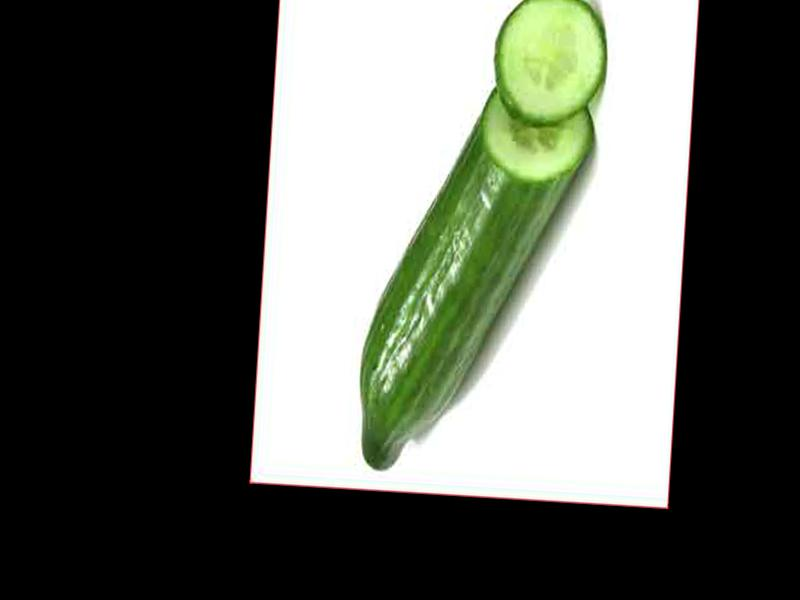Cucumber: (355, 73, 596, 482)
